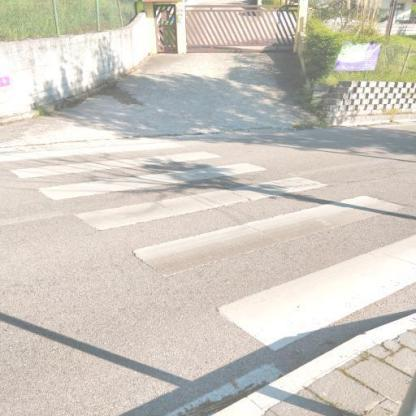crosswalk: (74, 172, 410, 280)
